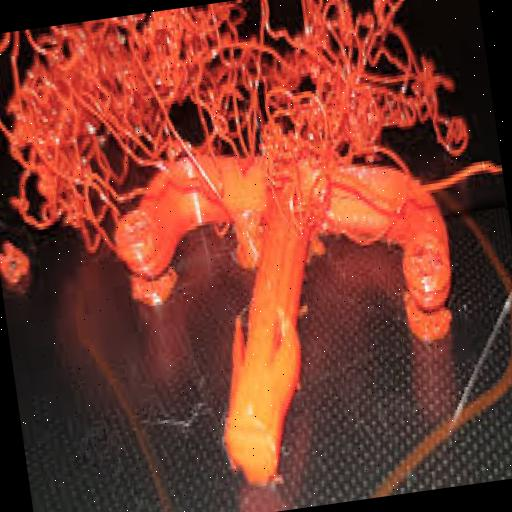spaghetti: (0, 0, 487, 271)
